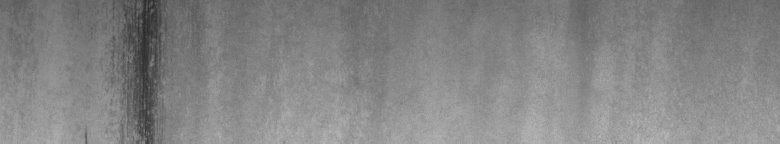ka: (85, 4, 168, 136)
